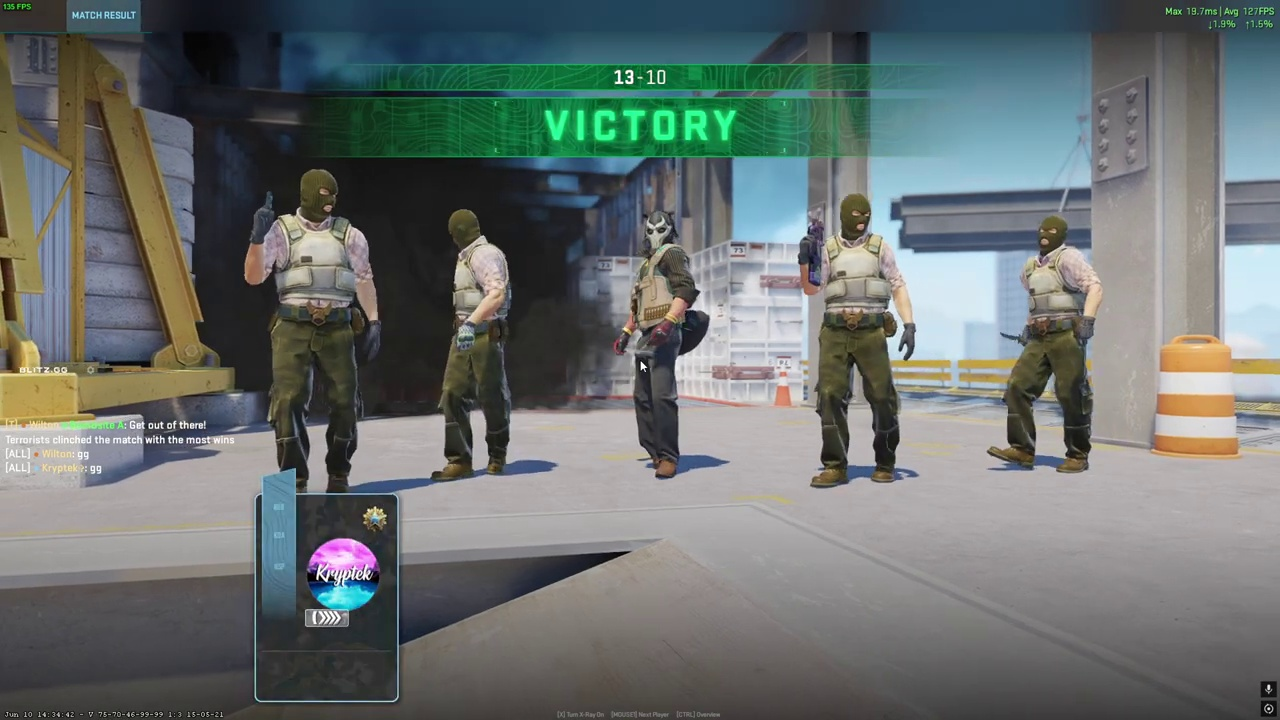Terrorist: (254, 169, 373, 493), (803, 193, 911, 487), (997, 216, 1101, 474), (431, 209, 512, 482), (623, 210, 695, 478)
